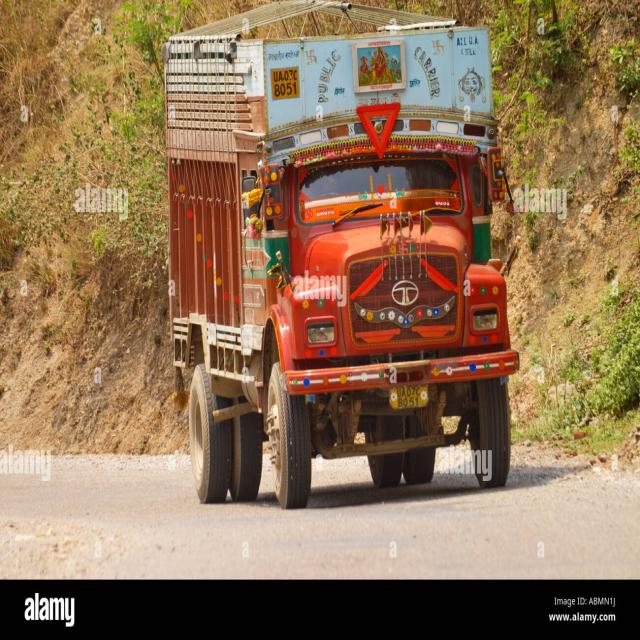Vehicles: (155, 9, 547, 522)
